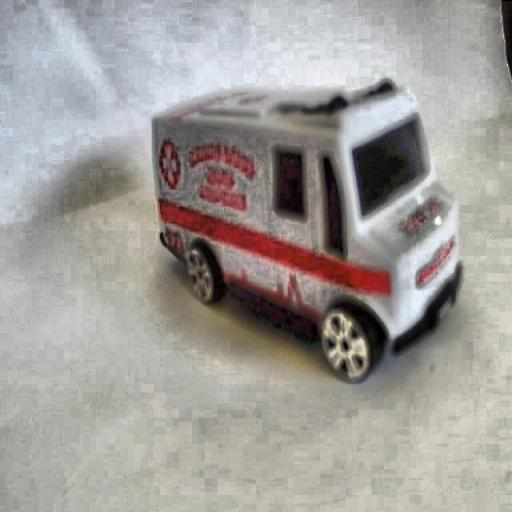ambulance: (151, 79, 462, 383)
